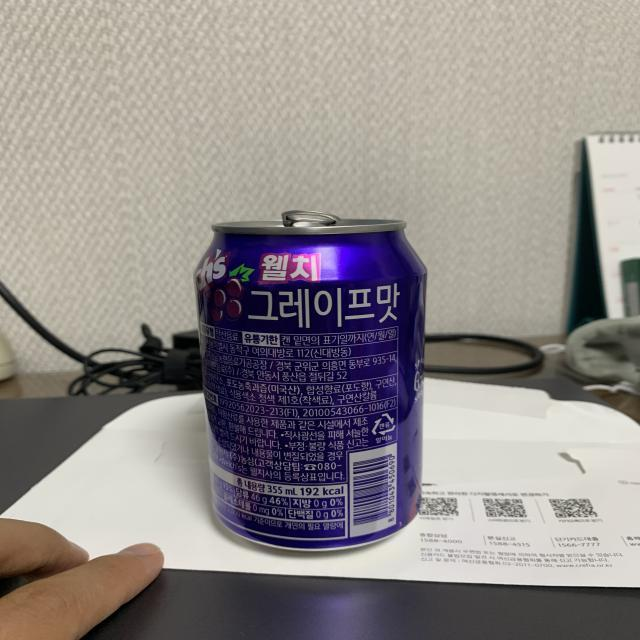can: (190, 205, 433, 557)
